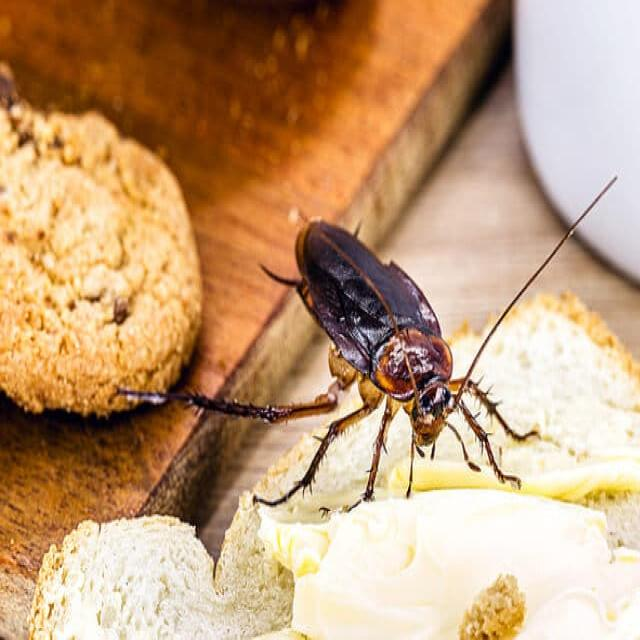Cockroach: (189, 180, 580, 514)
